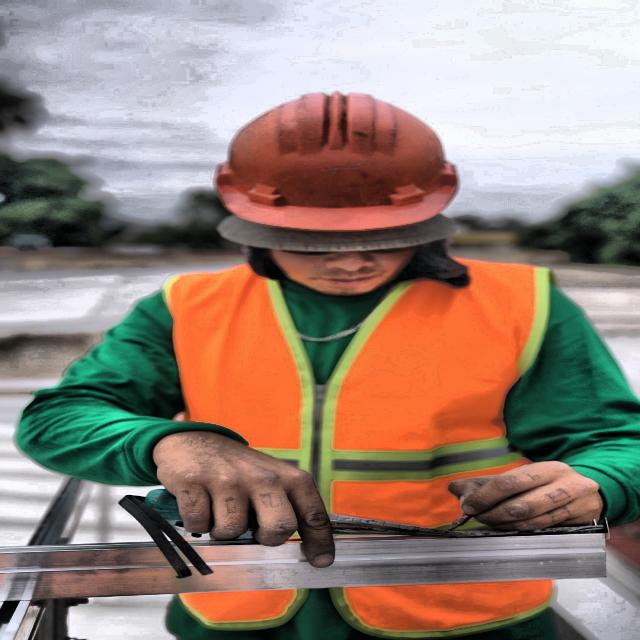not-gloved: (146, 430, 373, 574), (431, 447, 620, 561)
